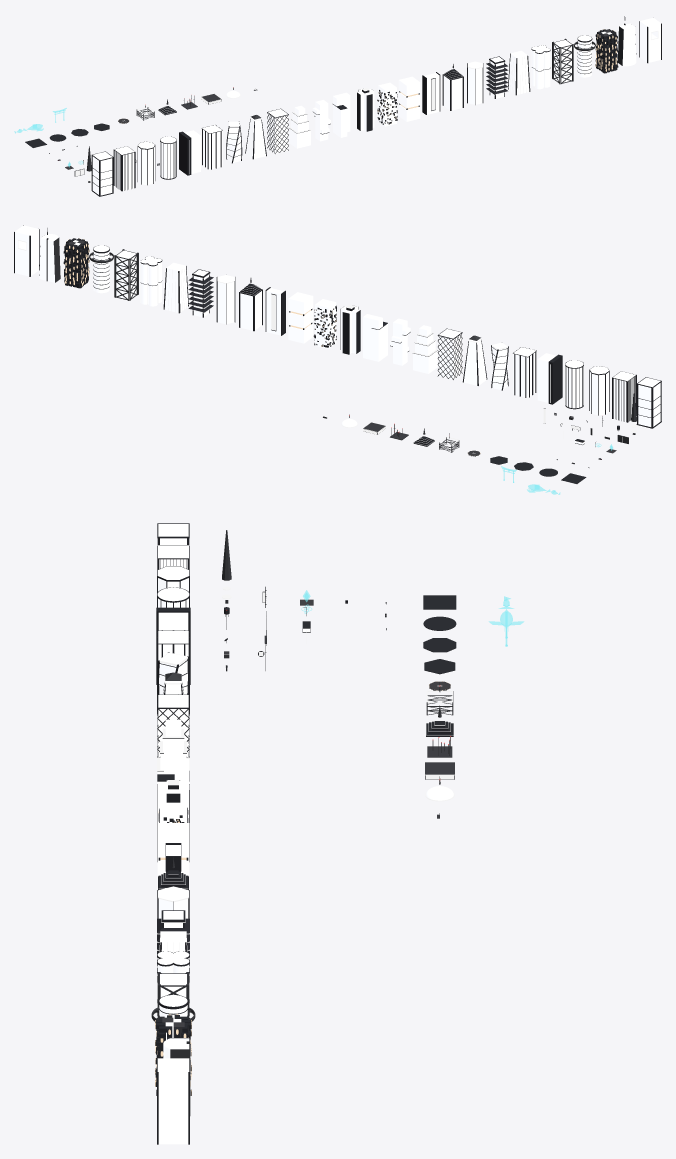
The model's file is kit.glb.
3 renders of one model, top to bottom at view 1: azimuth 30°, elevation 25°; view 2: azimuth 150°, elevation 25°; view 3: azimuth 270°, elevation 25°, orthographic. The views are drawn at different scales.
Parts seen in each view (by area): view 1: T00_Pillars, T25_Portal, T01_Fins, T14_Arcology, T04_Spine, T23_Capsule, T08_Diagrid, T21_Exo, T05_Stack, T19_Tyrell, T20_Bundle, T16_Deco (+14 smaller); view 2: T25_Portal, T04_Spine, T14_Arcology, T00_Pillars, T23_Capsule, T21_Exo, T08_Diagrid, T05_Stack, T01_Fins, T19_Tyrell, T11_LPlan, T20_Bundle (+14 smaller); view 3: T25_Portal, T08_Diagrid, T14_Arcology, T23_Capsule, T05_Stack, T04_Spine, T06_Twist.
Boxes of the visible parts, x1,y1,x2,y2 form: T00_Pillars: [91, 151, 113, 196]; T25_Portal: [639, 17, 661, 63]; T01_Fins: [113, 146, 135, 191]; T14_Arcology: [398, 76, 420, 121]; T04_Spine: [179, 130, 200, 175]; T23_Capsule: [595, 29, 618, 73]; T08_Diagrid: [267, 108, 288, 153]; T21_Exo: [552, 38, 573, 84]; T05_Stack: [201, 125, 222, 169]; T19_Tyrell: [508, 50, 530, 95]; T20_Bundle: [531, 45, 550, 89]; T16_Deco: [442, 64, 463, 110]; T25_Portal: [14, 225, 39, 276]; T04_Spine: [537, 353, 562, 404]; T14_Arcology: [288, 292, 313, 343]; T00_Pillars: [636, 377, 661, 428]; T23_Capsule: [63, 238, 89, 288]; T21_Exo: [114, 249, 138, 300]; T08_Diagrid: [437, 328, 462, 379]; T05_Stack: [513, 347, 536, 397]; T01_Fins: [612, 371, 636, 422]; T19_Tyrell: [163, 262, 188, 313]; T11_LPlan: [363, 314, 387, 361]; T20_Bundle: [140, 256, 162, 306]; T25_Portal: [157, 1058, 189, 1144]; T08_Diagrid: [157, 694, 189, 757]; T14_Arcology: [157, 823, 189, 889]; T23_Capsule: [155, 1014, 191, 1095]; T05_Stack: [157, 630, 189, 714]; T04_Spine: [156, 607, 190, 684]; T06_Twist: [157, 652, 189, 694].
Bounding box in the file's own units: 975 × 82.45 × 280.
